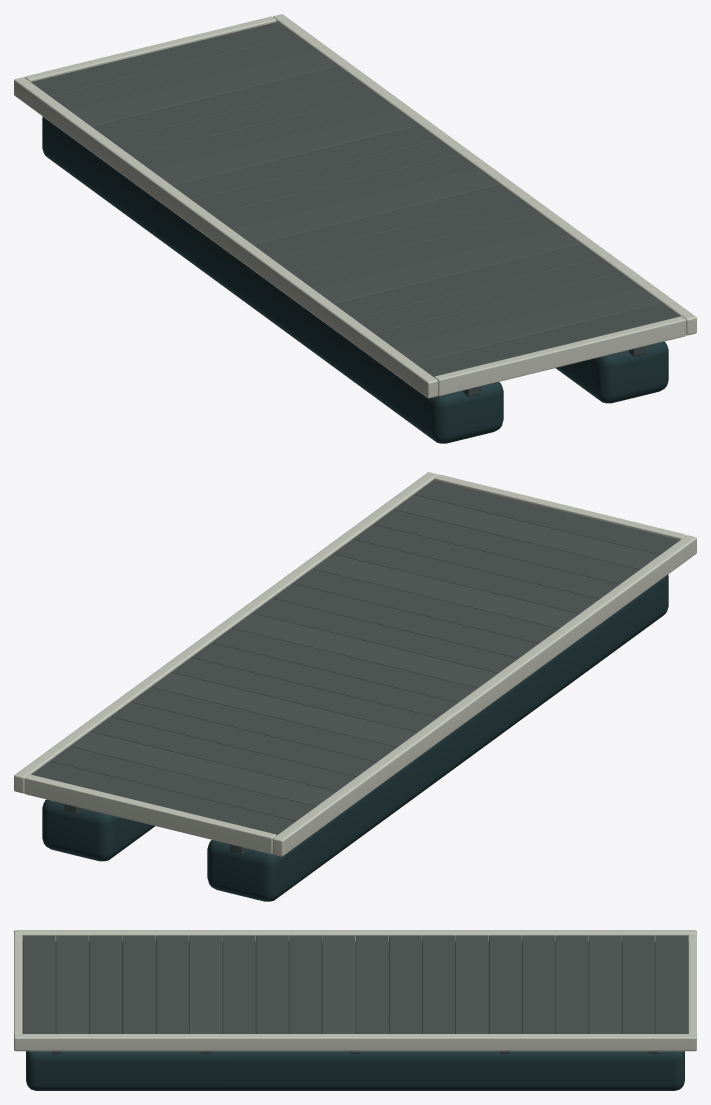
Rendered from city_marina_docks_01.glb.
The picture shows the model from 3 angles, top to bottom: view 1: azimuth 30°, elevation 25°; view 2: azimuth 150°, elevation 25°; view 3: azimuth 270°, elevation 25°; orthographic projection. The views are drawn at different scales.
Parts seen in each view (by area): view 1: CityMarinaDocks01_Mesh; view 2: CityMarinaDocks01_Mesh; view 3: CityMarinaDocks01_Mesh.
Part boxes in pixels (x1,y1,x2,y2): CityMarinaDocks01_Mesh: (14,14,696,443); CityMarinaDocks01_Mesh: (14,472,696,901); CityMarinaDocks01_Mesh: (14,930,696,1090).
Bounding box in the file's own units: 3 × 0.82 × 8.
